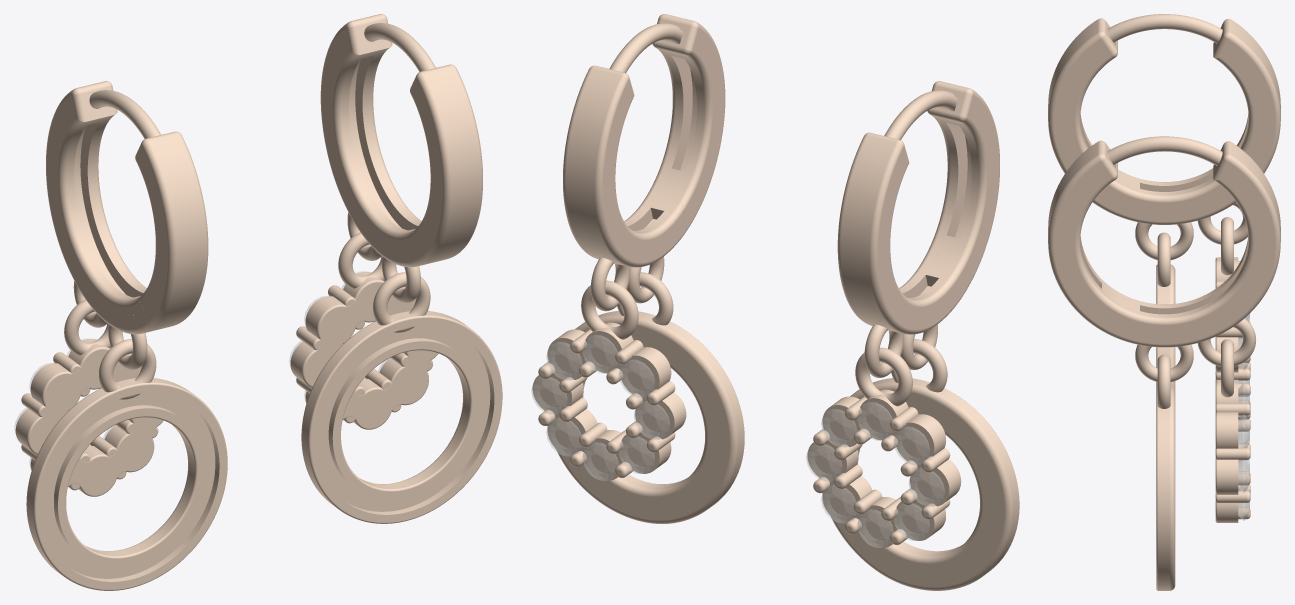
3 renders of one model, left to right at view 1: azimuth 30°, elevation 25°; view 2: azimuth 150°, elevation 25°; view 3: azimuth 270°, elevation 25°, orthographic. The views are drawn at different scales.
Visible parts, largest first — view 1: Creation Curves(47A144E1-D82C-4F44-8E54-D91344183EF7), Creation Curves(BC2CBE09-A9B2-47A5-9CD7-A663AFFA900D), Creation Curves(A8B84871-40C2-4AE4-B5FB-D8B11AED4420), Creation Curves(FED1823B-D021-4E6C-96F0-A169B1DCD63B), Creation Curves(8CC5E53B-12F7-4423-9189-5EBEF039A4BD), Creation Curves(14431EEB-4B81-468D-8161-1CADC958C42A), Creation Curves(D2785A42-1DCC-4578-82C1-F4B5C3B28FB9), Creation Curves(5B08642A-0CF4-4D67-807B-AD5A540C3814), Creation Curves(0F5A6CB1-F947-4949-AFAF-F8A72E68CC9E), Creation Curves(D06BCB23-2AAF-40B2-AB49-67F283013C69), Creation Curves(A1B3A39D-CB00-4014-8BD5-0960CE465E42), Creation Curves(5CC6474F-D056-4A02-BB08-470B72C20C7E) (+4 smaller); view 2: Diamond_Round(44F64F1B-52D7-4588-BD00-1A5242B2ACEF) (×16), Creation Curves(FED1823B-D021-4E6C-96F0-A169B1DCD63B), Creation Curves(A8B84871-40C2-4AE4-B5FB-D8B11AED4420), Creation Curves(47A144E1-D82C-4F44-8E54-D91344183EF7), Creation Curves(BC2CBE09-A9B2-47A5-9CD7-A663AFFA900D), Creation Curves(D2785A42-1DCC-4578-82C1-F4B5C3B28FB9), Creation Curves(5B08642A-0CF4-4D67-807B-AD5A540C3814), Creation Curves(8CC5E53B-12F7-4423-9189-5EBEF039A4BD), Creation Curves(14431EEB-4B81-468D-8161-1CADC958C42A), Creation Curves(735167A9-A859-468F-929C-E84CFA61DBA6), Creation Curves(CABB9B6A-2721-490A-B922-AFC72D79A162), Creation Curves(A1B3A39D-CB00-4014-8BD5-0960CE465E42) (+8 smaller); view 3: Creation Curves(A8B84871-40C2-4AE4-B5FB-D8B11AED4420), Creation Curves(FED1823B-D021-4E6C-96F0-A169B1DCD63B), Creation Curves(8CC5E53B-12F7-4423-9189-5EBEF039A4BD), Creation Curves(14431EEB-4B81-468D-8161-1CADC958C42A), Creation Curves(BC2CBE09-A9B2-47A5-9CD7-A663AFFA900D), Creation Curves(5B08642A-0CF4-4D67-807B-AD5A540C3814), Creation Curves(5CC6474F-D056-4A02-BB08-470B72C20C7E), Creation Curves(A1B3A39D-CB00-4014-8BD5-0960CE465E42), Creation Curves(88DCB137-8170-4416-A835-E327A5884C1D), Creation Curves(0FD2E54A-B065-43F8-88E8-25FAA0E8EB91), Creation Curves(F72EA599-B47E-4E05-86BB-E0F091A6449A), Creation Curves(0992B57F-7001-403F-9290-8FDF2C8A7A5F) (+12 smaller).
Boxes of the visible parts, bbox=[...] form: Creation Curves(47A144E1-D82C-4F44-8E54-D91344183EF7): bbox=[26, 378, 227, 590]; Creation Curves(BC2CBE09-A9B2-47A5-9CD7-A663AFFA900D): bbox=[301, 311, 502, 523]; Creation Curves(A8B84871-40C2-4AE4-B5FB-D8B11AED4420): bbox=[320, 14, 421, 267]; Creation Curves(FED1823B-D021-4E6C-96F0-A169B1DCD63B): bbox=[46, 81, 146, 334]; Creation Curves(8CC5E53B-12F7-4423-9189-5EBEF039A4BD): bbox=[410, 64, 482, 263]; Creation Curves(14431EEB-4B81-468D-8161-1CADC958C42A): bbox=[135, 131, 208, 330]; Creation Curves(D2785A42-1DCC-4578-82C1-F4B5C3B28FB9): bbox=[15, 338, 163, 496]; Creation Curves(5B08642A-0CF4-4D67-807B-AD5A540C3814): bbox=[290, 271, 438, 429]; Creation Curves(0F5A6CB1-F947-4949-AFAF-F8A72E68CC9E): bbox=[99, 339, 156, 399]; Creation Curves(D06BCB23-2AAF-40B2-AB49-67F283013C69): bbox=[373, 272, 430, 332]; Creation Curves(A1B3A39D-CB00-4014-8BD5-0960CE465E42): bbox=[89, 90, 161, 138]; Creation Curves(5CC6474F-D056-4A02-BB08-470B72C20C7E): bbox=[364, 23, 435, 71]; Diamond_Round(44F64F1B-52D7-4588-BD00-1A5242B2ACEF) (×16): bbox=[531, 335, 944, 547]; Creation Curves(FED1823B-D021-4E6C-96F0-A169B1DCD63B): bbox=[837, 132, 964, 334]; Creation Curves(A8B84871-40C2-4AE4-B5FB-D8B11AED4420): bbox=[563, 65, 688, 267]; Creation Curves(47A144E1-D82C-4F44-8E54-D91344183EF7): bbox=[822, 378, 1019, 590]; Creation Curves(BC2CBE09-A9B2-47A5-9CD7-A663AFFA900D): bbox=[544, 311, 744, 523]; Creation Curves(D2785A42-1DCC-4578-82C1-F4B5C3B28FB9): bbox=[807, 389, 961, 547]; Creation Curves(5B08642A-0CF4-4D67-807B-AD5A540C3814): bbox=[532, 322, 686, 480]; Creation Curves(8CC5E53B-12F7-4423-9189-5EBEF039A4BD): bbox=[652, 14, 725, 206]; Creation Curves(14431EEB-4B81-468D-8161-1CADC958C42A): bbox=[927, 81, 999, 268]; Creation Curves(735167A9-A859-468F-929C-E84CFA61DBA6): bbox=[581, 280, 638, 339]; Creation Curves(CABB9B6A-2721-490A-B922-AFC72D79A162): bbox=[855, 347, 912, 406]; Creation Curves(A1B3A39D-CB00-4014-8BD5-0960CE465E42): bbox=[884, 90, 957, 139]; Creation Curves(A8B84871-40C2-4AE4-B5FB-D8B11AED4420): bbox=[1113, 141, 1280, 347]; Creation Curves(FED1823B-D021-4E6C-96F0-A169B1DCD63B): bbox=[1113, 19, 1280, 224]; Creation Curves(8CC5E53B-12F7-4423-9189-5EBEF039A4BD): bbox=[1048, 140, 1117, 325]; Creation Curves(14431EEB-4B81-468D-8161-1CADC958C42A): bbox=[1048, 18, 1117, 203]; Creation Curves(BC2CBE09-A9B2-47A5-9CD7-A663AFFA900D): bbox=[1156, 387, 1175, 590]; Creation Curves(5B08642A-0CF4-4D67-807B-AD5A540C3814): bbox=[1215, 379, 1238, 522]; Creation Curves(5CC6474F-D056-4A02-BB08-470B72C20C7E): bbox=[1107, 136, 1222, 165]; Creation Curves(A1B3A39D-CB00-4014-8BD5-0960CE465E42): bbox=[1107, 14, 1222, 43]; Creation Curves(88DCB137-8170-4416-A835-E327A5884C1D): bbox=[1135, 222, 1193, 260]; Creation Curves(0FD2E54A-B065-43F8-88E8-25FAA0E8EB91): bbox=[1135, 344, 1193, 381]; Creation Curves(F72EA599-B47E-4E05-86BB-E0F091A6449A): bbox=[1197, 318, 1255, 366]; Creation Curves(0992B57F-7001-403F-9290-8FDF2C8A7A5F): bbox=[1093, 300, 1129, 336].
Bounding box in the file's own units: 0.0261 × 0.0259 × 0.0123.
